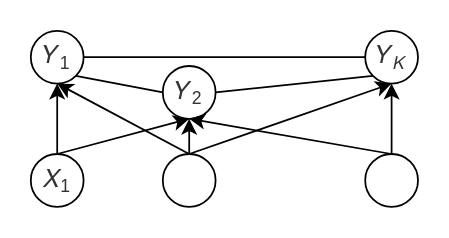
Image size: 449x238. Some labels were removed from this diagram. The box of each missing label's shape, as (x1, y1, x2, y2) in pixels:
𝑋 2: (161, 152, 216, 207)
𝑋 𝐽: (363, 152, 418, 207)
